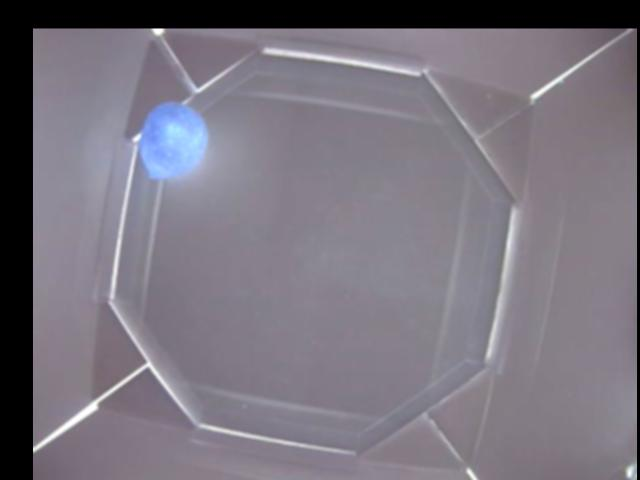Potato: (134, 102, 209, 176)
